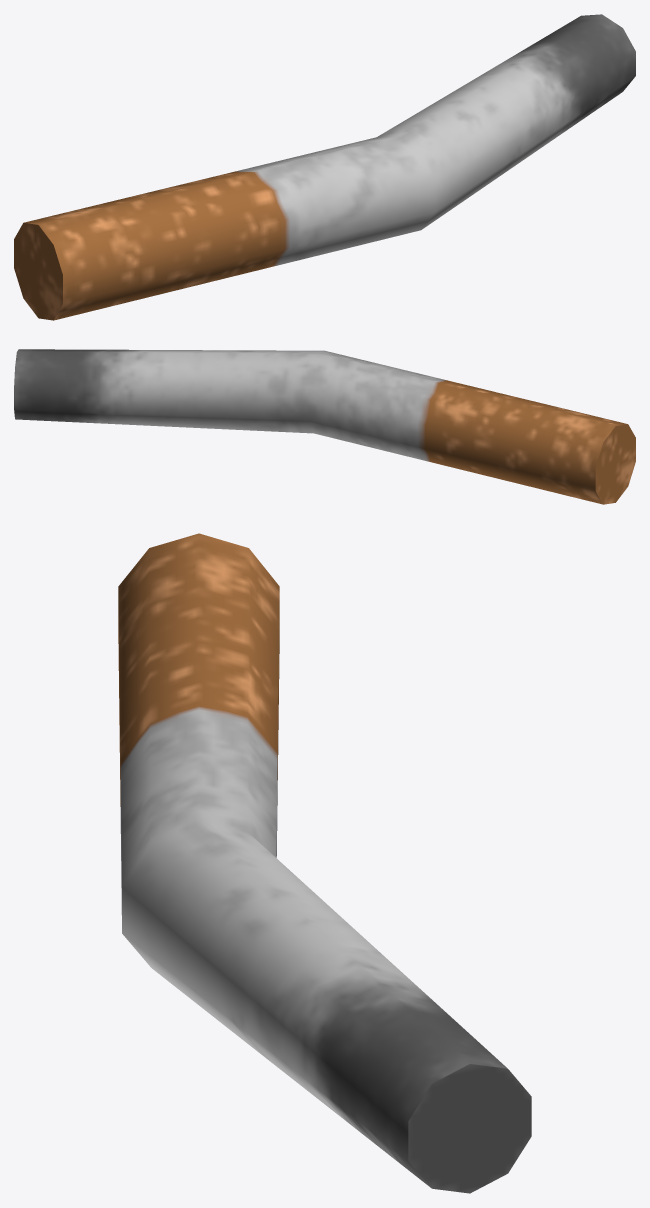
The model's file is SM_Cigarette_04.fbx.
3 renders of one model, top to bottom at view 1: azimuth 30°, elevation 25°; view 2: azimuth 150°, elevation 25°; view 3: azimuth 270°, elevation 25°, orthographic. The views are drawn at different scales.
Parts seen in each view (by area): view 1: SM_Cigarette_04_LOD0; view 2: SM_Cigarette_04_LOD0; view 3: SM_Cigarette_04_LOD0.
Part boxes in pixels (left/top/right/bottom): SM_Cigarette_04_LOD0: left=14, top=14, right=635, bottom=320; SM_Cigarette_04_LOD0: left=14, top=349, right=635, bottom=504; SM_Cigarette_04_LOD0: left=118, top=533, right=531, bottom=1193.
Size of the model in its own units: 5.73 by 1.89 by 0.7747.
1 material, 1 textured.
